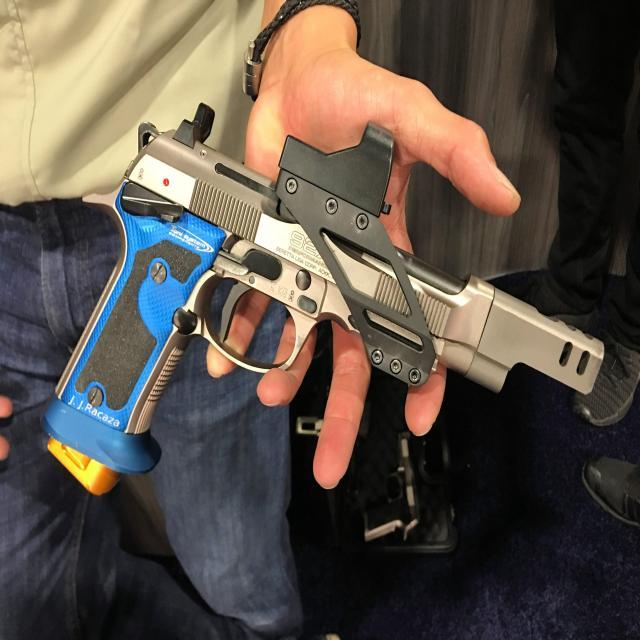Pistol: (39, 92, 619, 544)
